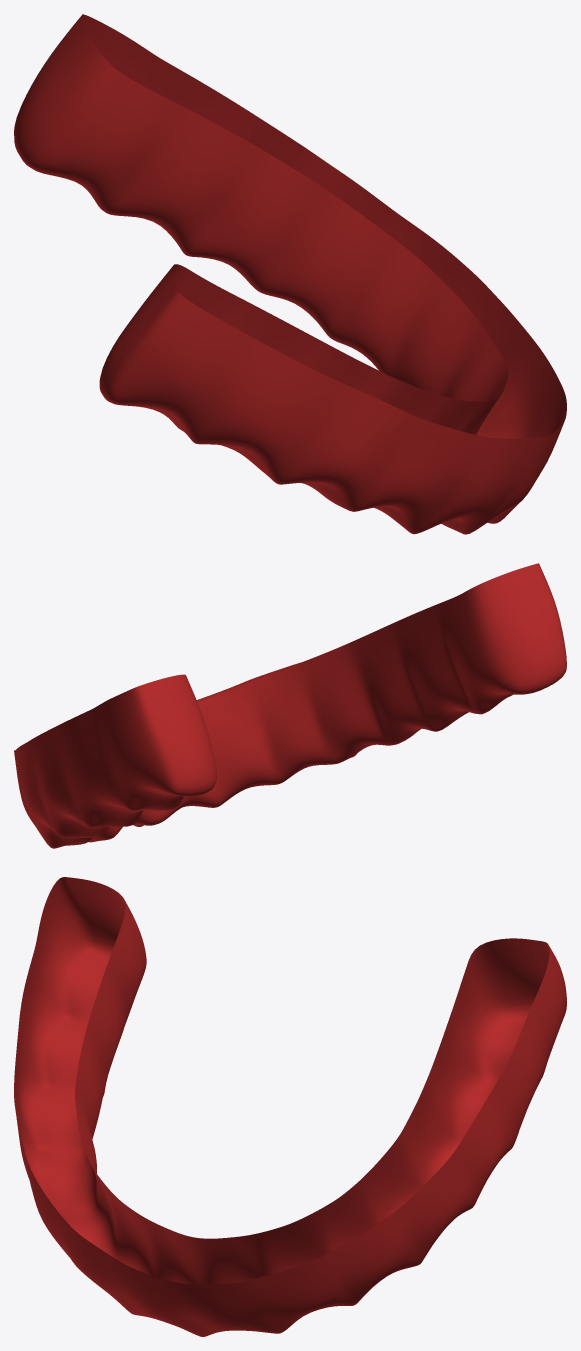
The model's file is GEO_spring_gums_top.obj.
The picture shows the model from 3 angles, top to bottom: view 1: azimuth 30°, elevation 25°; view 2: azimuth 150°, elevation 25°; view 3: azimuth 270°, elevation 25°; orthographic projection. The views are drawn at different scales.
Parts seen in each view (by area): view 1: GEO_spring_gums_top; view 2: GEO_spring_gums_top; view 3: GEO_spring_gums_top.
Boxes of the visible parts, x1,y1,x2,y2 form: GEO_spring_gums_top: (14,14,566,534); GEO_spring_gums_top: (14,563,566,848); GEO_spring_gums_top: (14,877,566,1336).
Size of the model in its own units: 0.0979 by 0.0666 by 0.1074.
